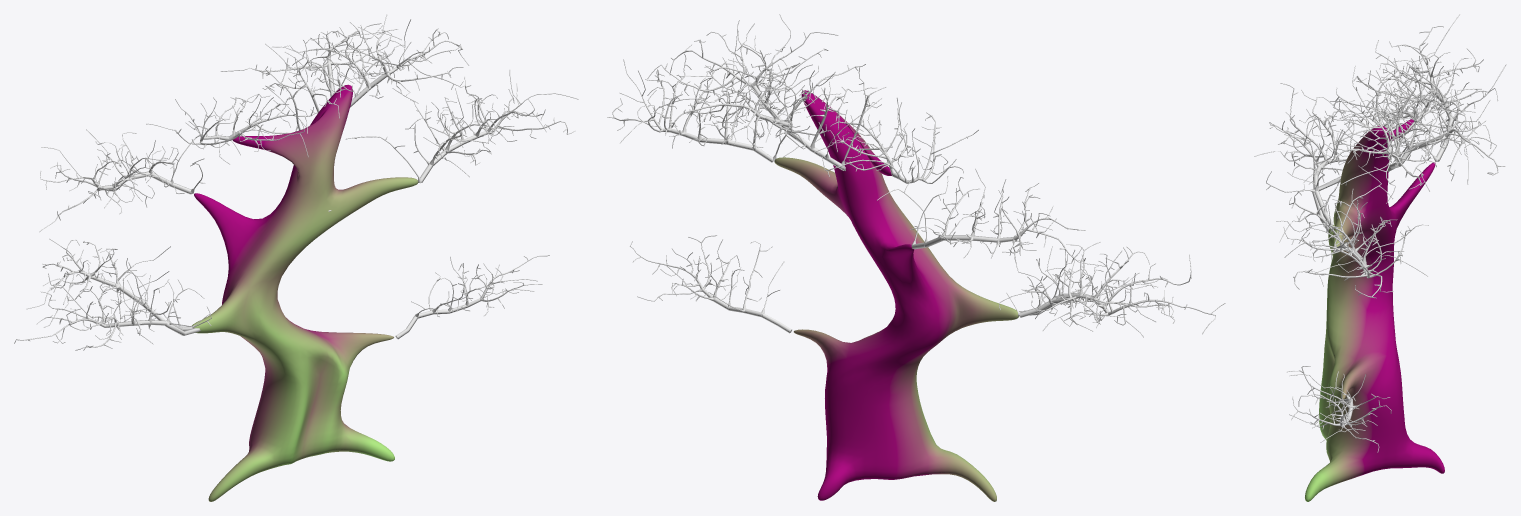
File: landmark-v01.glb
3 renders of one model, left to right at view 1: azimuth 30°, elevation 25°; view 2: azimuth 150°, elevation 25°; view 3: azimuth 270°, elevation 25°, orthographic. The views are drawn at different scales.
Parts seen in each view (by area): view 1: Continuous aged trunk and primary branches, Terminal twig hierarchy; view 2: Continuous aged trunk and primary branches, Terminal twig hierarchy; view 3: Continuous aged trunk and primary branches, Terminal twig hierarchy.
Part boxes in pixels (x1=…): Continuous aged trunk and primary branches: x1=192, y1=84, x2=418, y2=501; Terminal twig hierarchy: x1=14, y1=14, x2=578, y2=350; Continuous aged trunk and primary branches: x1=774, y1=90, x2=1018, y2=501; Terminal twig hierarchy: x1=607, y1=14, x2=1225, y2=337; Continuous aged trunk and primary branches: x1=1305, y1=119, x2=1444, y2=501; Terminal twig hierarchy: x1=1254, y1=14, x2=1506, y2=452.
Bounding box in the file's own units: 2.71 × 1.92 × 1.01.
